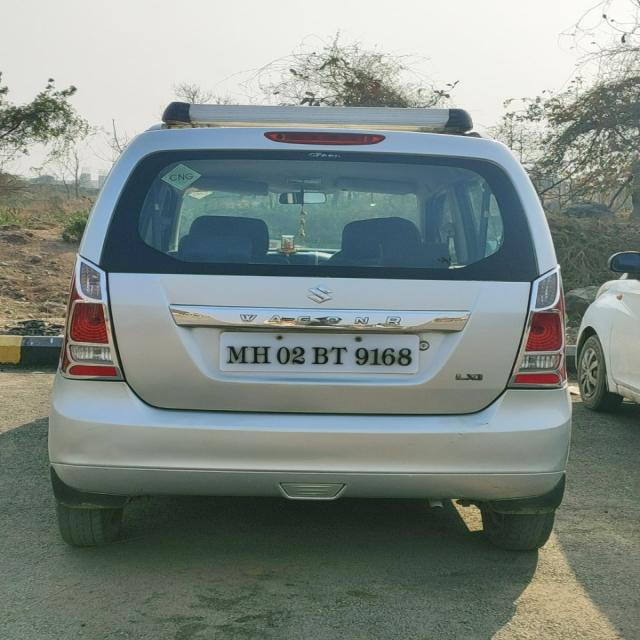Number-Plate: (222, 333, 419, 373)
